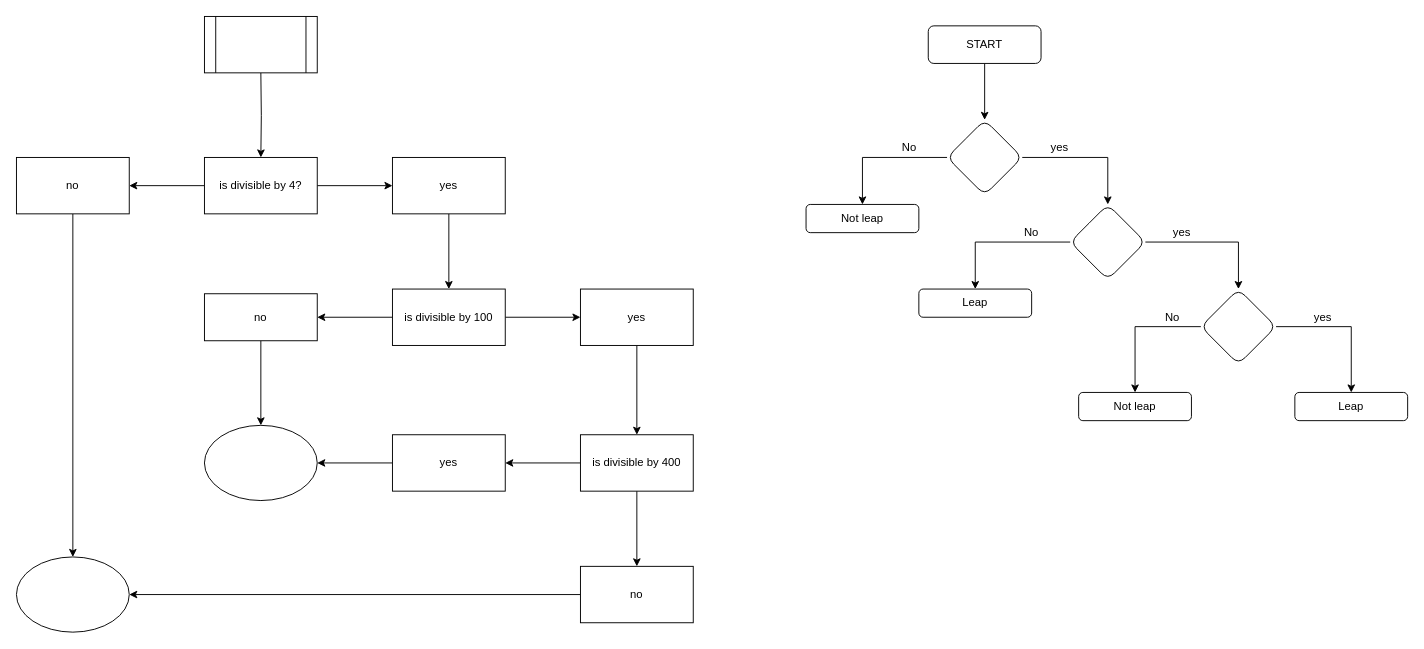
The diagram is 1424 pixels wide and 649 high, and some of its shapes have lost their labels. Each missing label, with the centre of its shape:
"divisible by 100?" belongs at [1107,242].
"divisible by 400" belongs at [1238,326].
"divisible by 4?" belongs at [984,157].
"is a leap year" belongs at [260,462].
"not a leap year" belongs at [72,594].
"year" belongs at [260,44].
